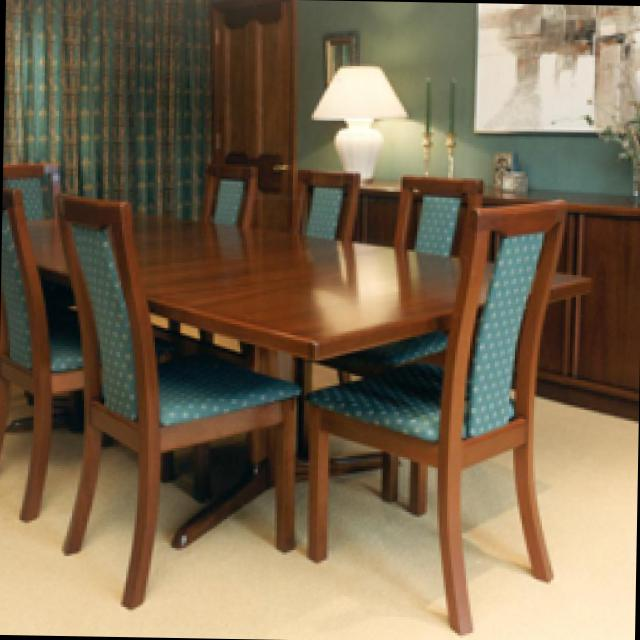buffet: (480, 183, 637, 418)
candle holder: (418, 74, 431, 169), (441, 80, 453, 172)
chair: (394, 174, 477, 260), (289, 167, 358, 235), (197, 163, 253, 226)
chair -occluded-: (301, 199, 562, 632), (56, 190, 294, 604), (0, 184, 79, 517)
curtain crop: (3, 0, 213, 213)
door bars: (206, 2, 293, 154)
lamp crop: (306, 63, 406, 176)
painting crop: (473, 3, 640, 130), (320, 28, 357, 82)
plant -x: (549, 58, 640, 195)
table -X: (7, 210, 583, 357)
